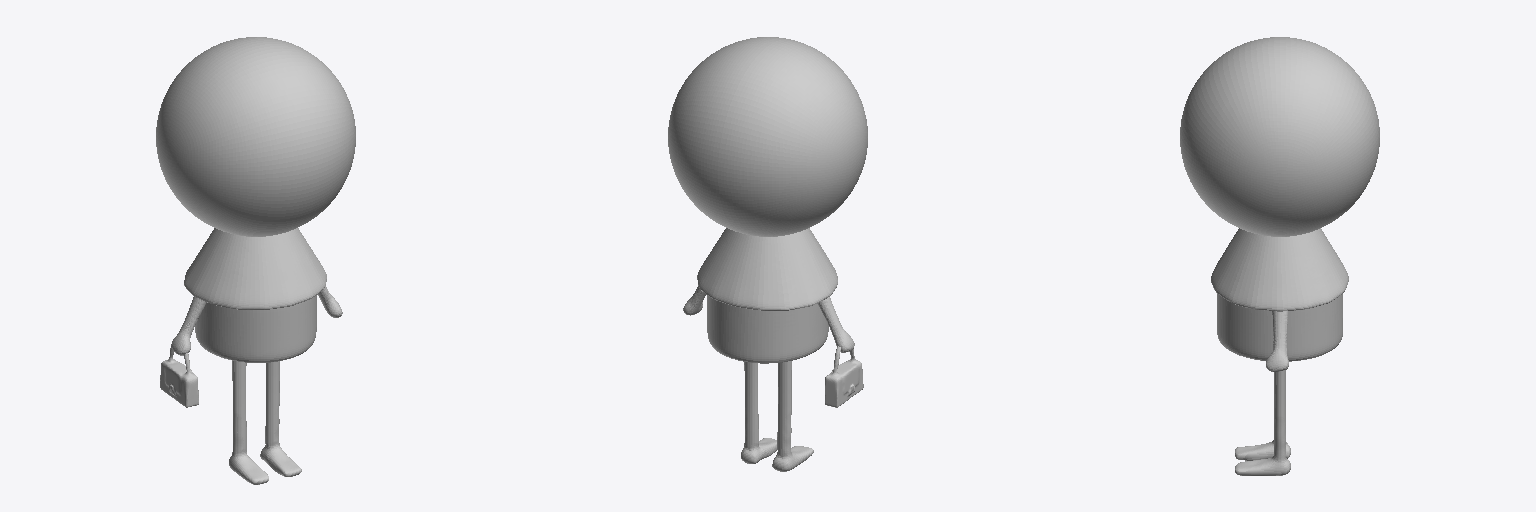
The model's file is Vieja001.obj.
3 renders of one model, left to right at view 1: azimuth 30°, elevation 25°; view 2: azimuth 150°, elevation 25°; view 3: azimuth 270°, elevation 25°, orthographic.
Parts seen in each view (by area): view 1: Group23832, Group1416, Group9374, Group23952, Group25256, Group12294, Group1156; view 2: Group23832, Group1416, Group9374, Group23952, Group25256, Group1156, Group12294; view 3: Group23832, Group1416, Group9374, Group12294, Group23952, Group1156.
Boxes of the visible parts, <box> form: Group23832: <box>156,37,355,236</box>; Group1416: <box>184,228,326,309</box>; Group9374: <box>195,295,316,362</box>; Group23952: <box>231,361,280,459</box>; Group25256: <box>160,346,198,407</box>; Group12294: <box>229,447,301,484</box>; Group1156: <box>171,286,342,355</box>; Group23832: <box>668,37,867,236</box>; Group1416: <box>697,228,837,310</box>; Group9374: <box>707,295,828,363</box>; Group23952: <box>744,361,793,460</box>; Group25256: <box>825,346,863,407</box>; Group1156: <box>683,286,854,352</box>; Group12294: <box>741,438,813,471</box>; Group23832: <box>1180,37,1379,236</box>; Group1416: <box>1211,228,1348,311</box>; Group9374: <box>1217,294,1342,361</box>; Group12294: <box>1235,442,1290,475</box>; Group23952: <box>1272,370,1287,464</box>; Group1156: <box>1266,311,1288,371</box>.
Size of the model in its own units: 1.99 by 4.61 by 1.99.